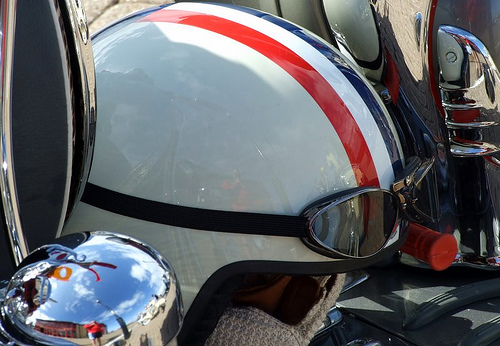helmet: (81, 8, 409, 297)
